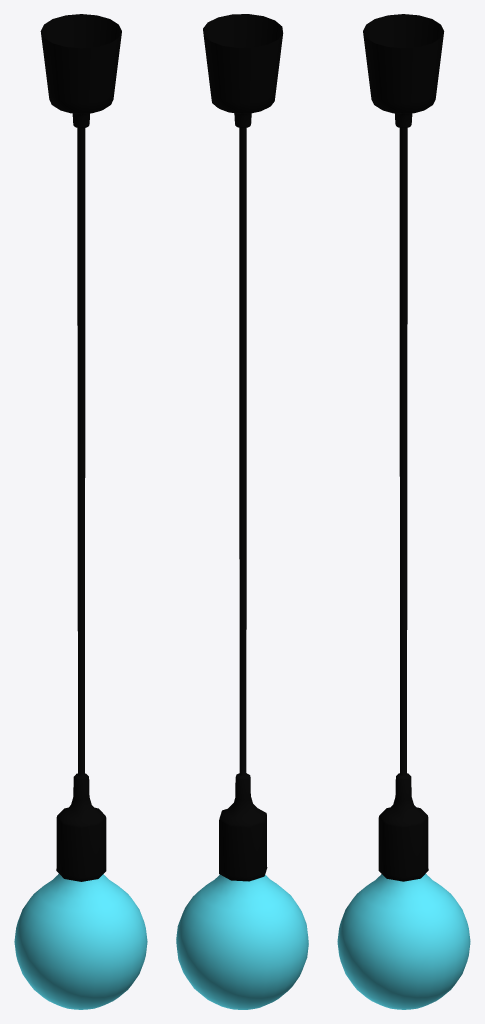
The model's file is SM_Pendantlight_005_B.FBX.
The picture shows the model from 3 angles, left to right: view 1: azimuth 90°, elevation 25°; view 2: azimuth 150°, elevation 25°; view 3: azimuth 270°, elevation 25°; orthographic projection.
Visible parts, largest first — view 1: SM_Pendantlight_005_B; view 2: SM_Pendantlight_005_B; view 3: SM_Pendantlight_005_B.
Boxes of the visible parts, x1=… form: SM_Pendantlight_005_B: x1=14, y1=14, x2=147, y2=1009; SM_Pendantlight_005_B: x1=176, y1=14, x2=308, y2=1009; SM_Pendantlight_005_B: x1=337, y1=14, x2=470, y2=1009.
Bounding box in the file's own units: 9.5 × 9.5 × 76.7.
